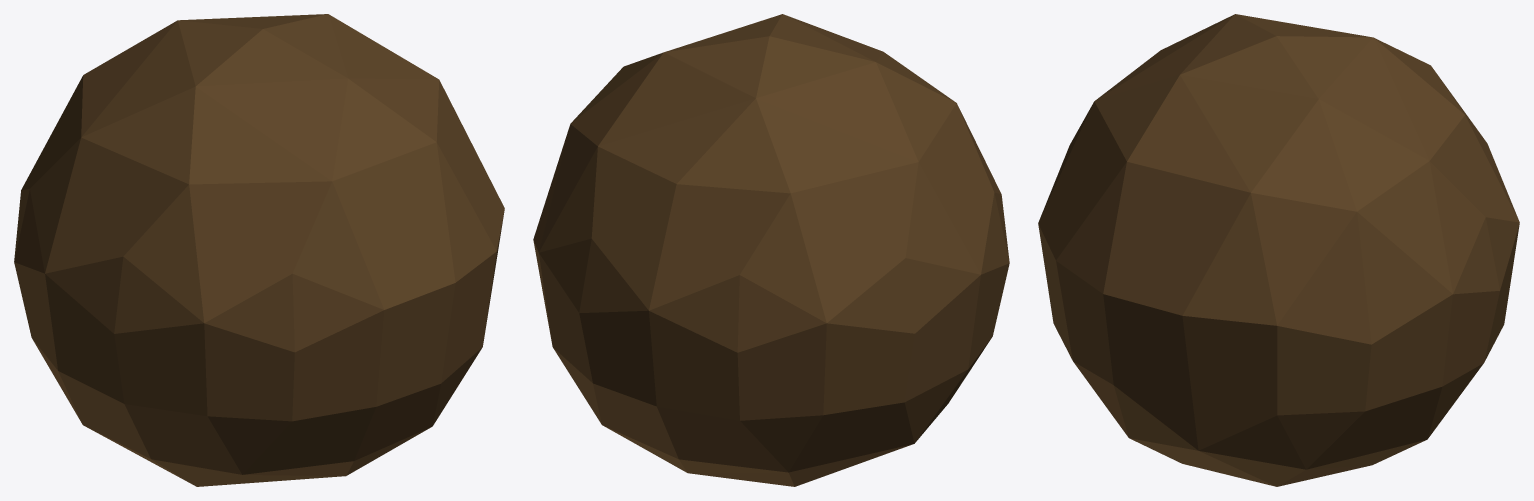
File: Coconut.fbx
3 renders of one model, left to right at view 1: azimuth 30°, elevation 25°; view 2: azimuth 150°, elevation 25°; view 3: azimuth 270°, elevation 25°, orthographic. The views are drawn at different scales.
Visible parts, largest first — view 1: Coconut; view 2: Coconut; view 3: Coconut.
Boxes of the visible parts, <box> form: Coconut: <box>14,14,504,486</box>; Coconut: <box>533,14,1009,486</box>; Coconut: <box>1038,14,1519,486</box>.
Bounding box in the file's own units: 25.19 × 24.71 × 25.02.
